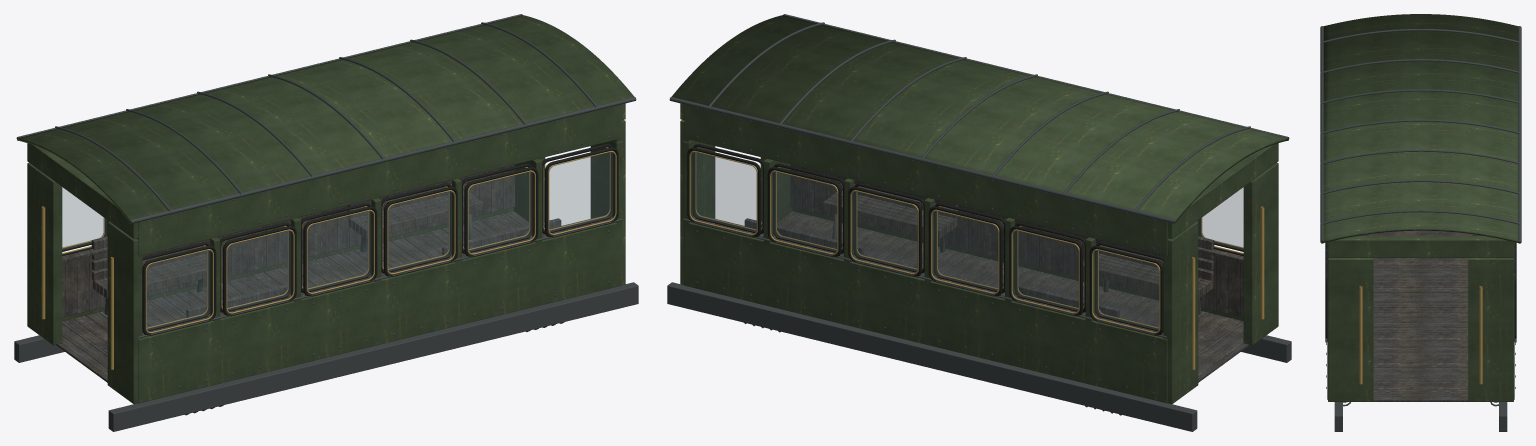
Rendered from crew_car_finish.glb.
The picture shows the model from 3 angles, left to right: view 1: azimuth 30°, elevation 25°; view 2: azimuth 150°, elevation 25°; view 3: azimuth 270°, elevation 25°; orthographic projection. The views are drawn at different scales.
Visible parts, largest first — view 1: crew_car_finish; view 2: crew_car_finish; view 3: crew_car_finish.
Boxes of the visible parts, <box> form: crew_car_finish: <box>14,14,638,431</box>; crew_car_finish: <box>667,14,1291,431</box>; crew_car_finish: <box>1320,14,1521,431</box>.
Size of the model in its own units: 7.4 by 3.18 by 2.81.
6 materials, 2 textured.
